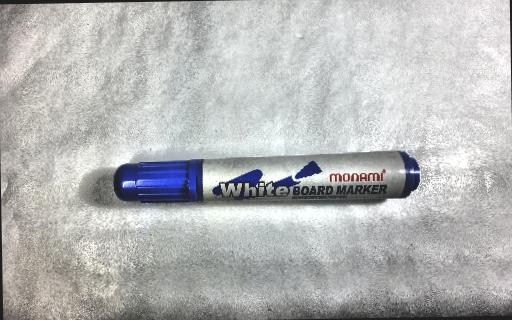marcador azul: (113, 151, 420, 203)
